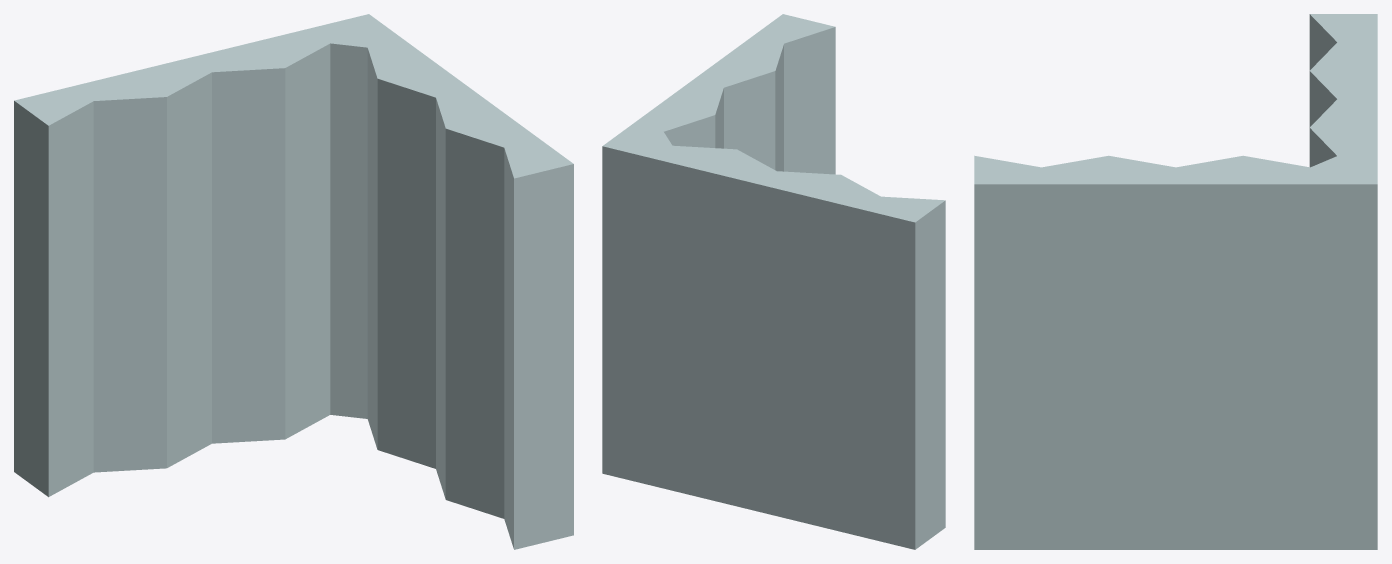
Rendered from cliff_cornerInner_stone.gltf.
The picture shows the model from 3 angles, left to right: view 1: azimuth 30°, elevation 25°; view 2: azimuth 150°, elevation 25°; view 3: azimuth 270°, elevation 25°; orthographic projection. The views are drawn at different scales.
Parts seen in each view (by area): view 1: cliff_cornerInner_stone; view 2: cliff_cornerInner_stone; view 3: cliff_cornerInner_stone.
Part boxes in pixels (x1,y1,x2,y2): cliff_cornerInner_stone: (14, 14, 573, 549); cliff_cornerInner_stone: (602, 14, 945, 549); cliff_cornerInner_stone: (974, 14, 1377, 549).
Size of the model in its own units: 1 by 1 by 1.
